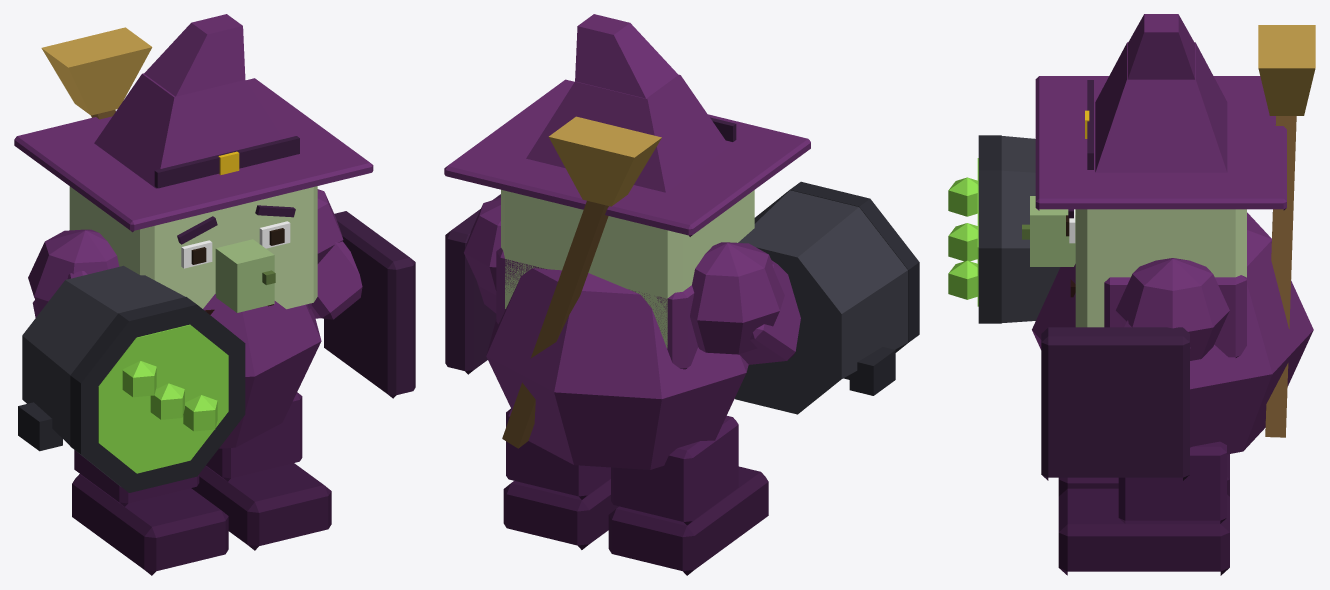
Rendered from r6_mini_cauldron_witch.glb.
3 views of the same model, side by side, from view 1: azimuth 30°, elevation 25°; view 2: azimuth 150°, elevation 25°; view 3: azimuth 270°, elevation 25° (orthographic). The views are drawn at different scales.
Visible parts, largest first — view 1: r6_mini_cauldron_witch_mesh; view 2: r6_mini_cauldron_witch_mesh; view 3: r6_mini_cauldron_witch_mesh.
Part boxes in pixels (left/top/right/bottom): r6_mini_cauldron_witch_mesh: left=14, top=14, right=415, bottom=575; r6_mini_cauldron_witch_mesh: left=444, top=14, right=919, bottom=575; r6_mini_cauldron_witch_mesh: left=948, top=14, right=1315, bottom=575.
Size of the model in its own units: 3.04 by 3.8 by 2.43.
1 material, 1 textured.
